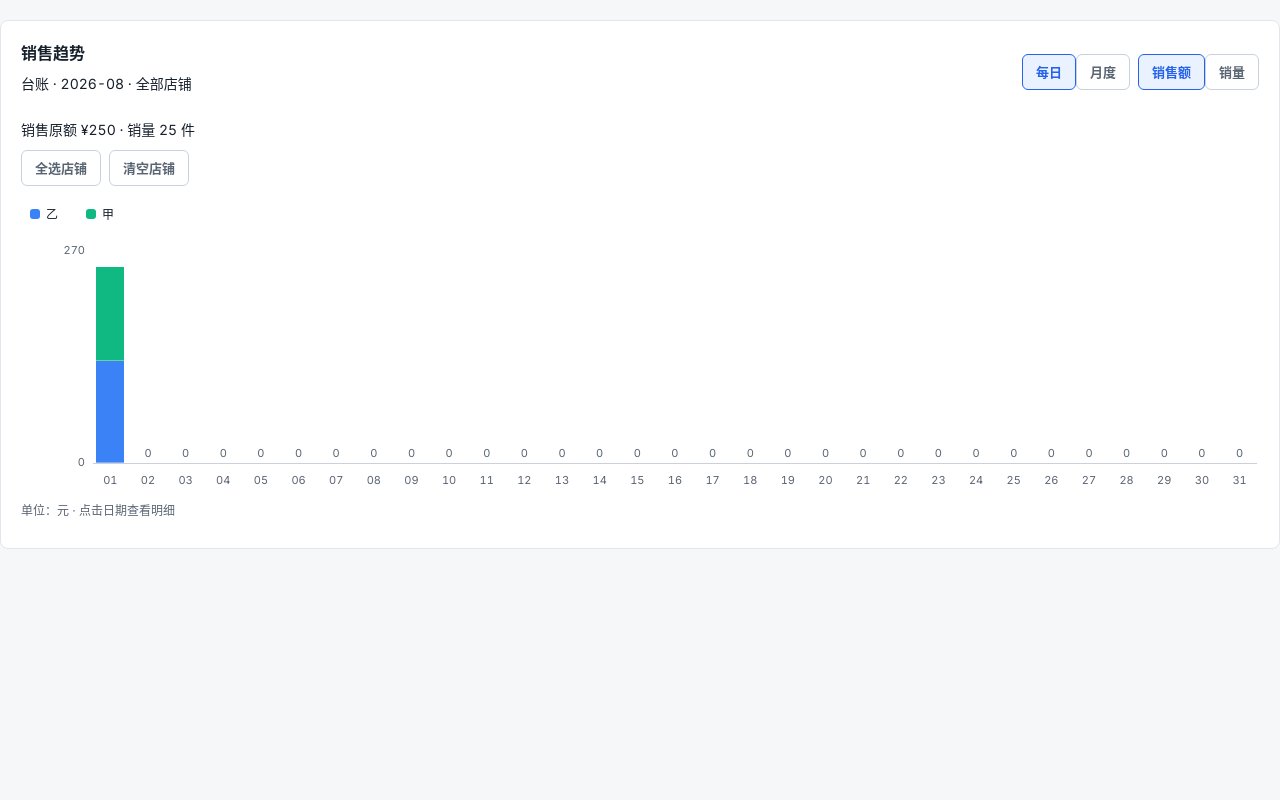
Test: keeps monthly data lazy, stacks daily stores on a shared column, and keeps hidden filters visual
Check: the button "月度" is shown, box [1076,54,1130,90]
Click the button "乙" at (44, 214), box [21,198,67,231]
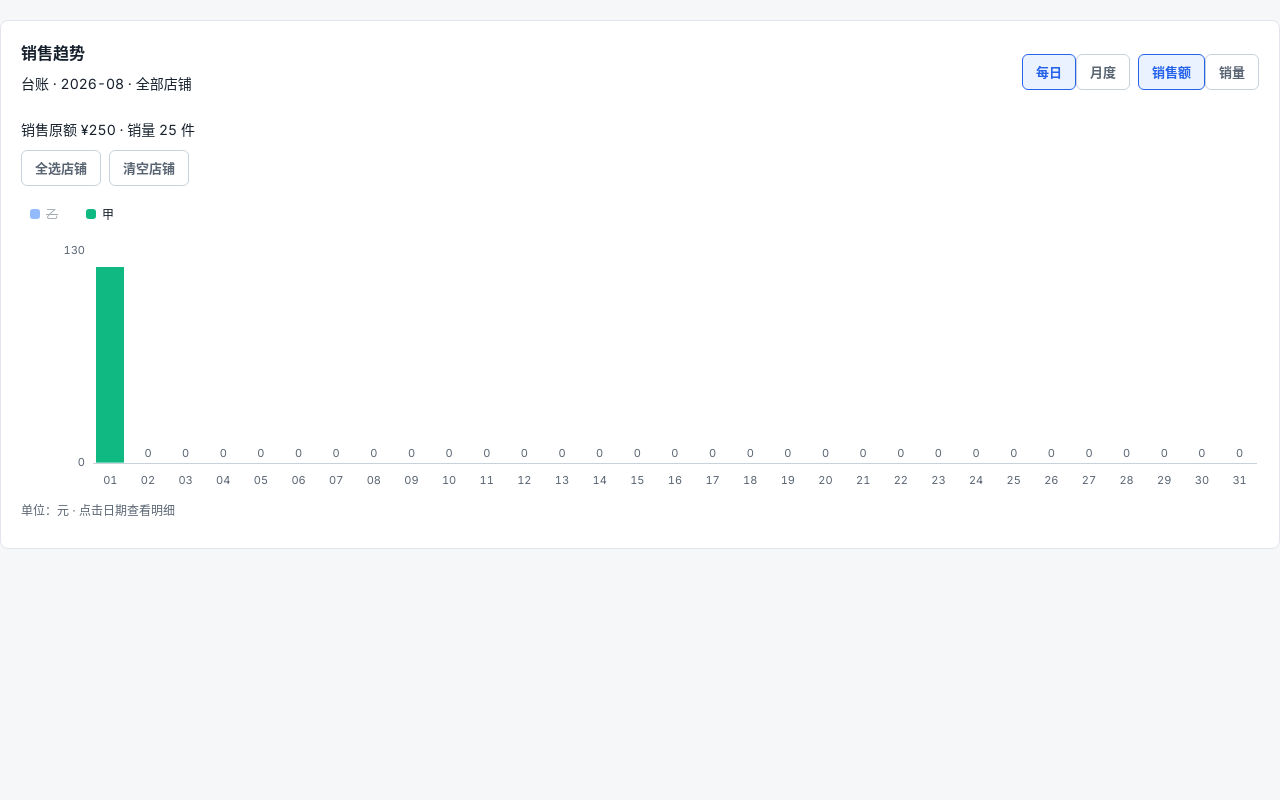
Check: the element with class "sales-month-totals" shows "250", box [88,121,116,138]
Check: the number of elements with class "sales-stack-segment" is 1, box [96,267,124,463]
Click the button "01" at (110, 357), box [93,251,128,463]
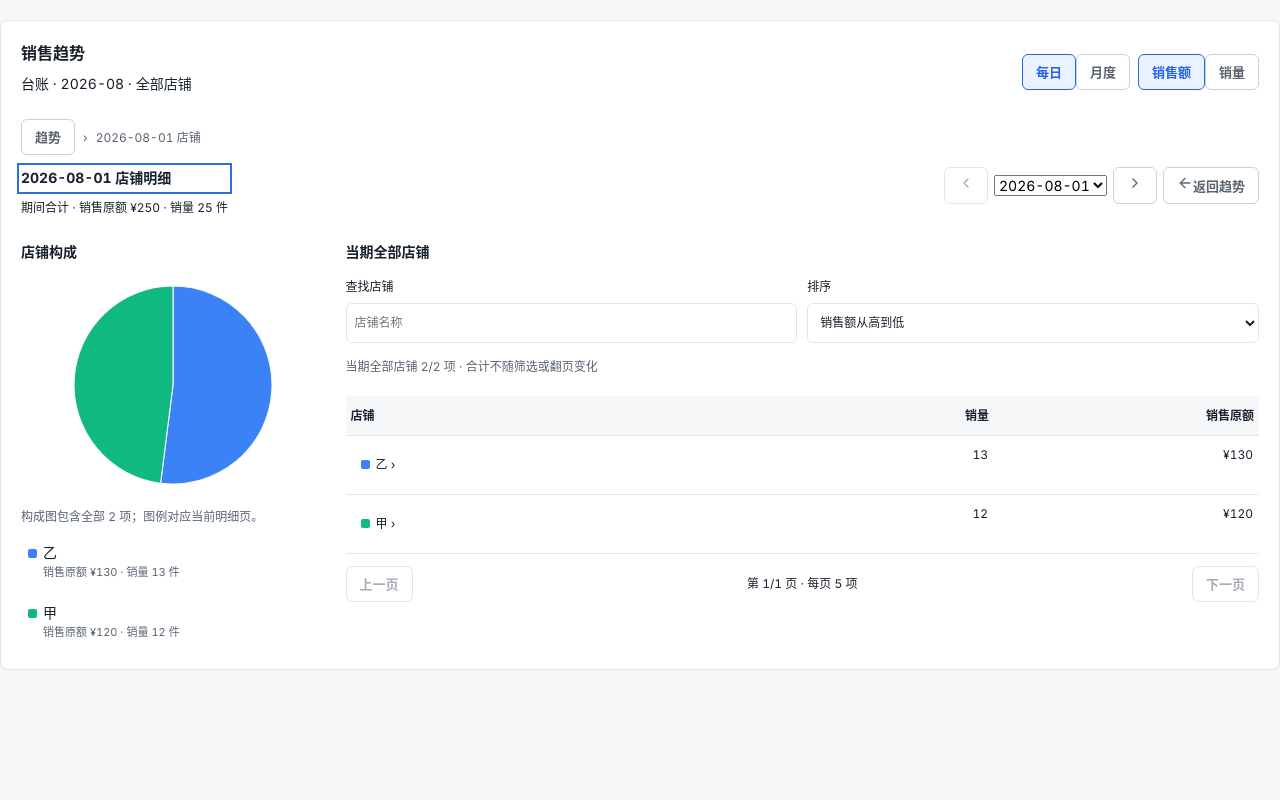
Check: the text with class "sales-list-scope" shows "2/2", box [346,358,598,374]
